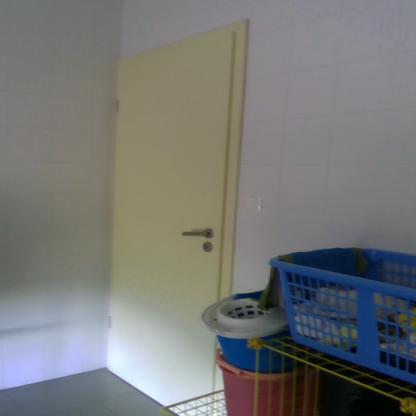door: (114, 62, 220, 416)
hinged: (112, 98, 122, 113), (106, 313, 114, 329)
lever: (180, 226, 210, 238)
